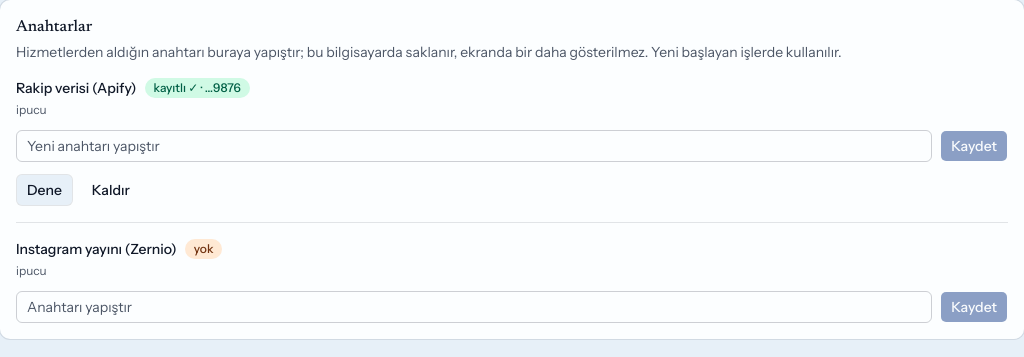
Test: ApiKeysCard › kaydedince değeri action'a yollar ve alanı boşaltır; kaldırma onay ister
This screenshot has width=1024, height=357.
In the password field named "Instagram yayını (Zernio) anahtarı": (474, 307) x1=16 y1=291 x2=932 y2=323, type "zk_0123456789"
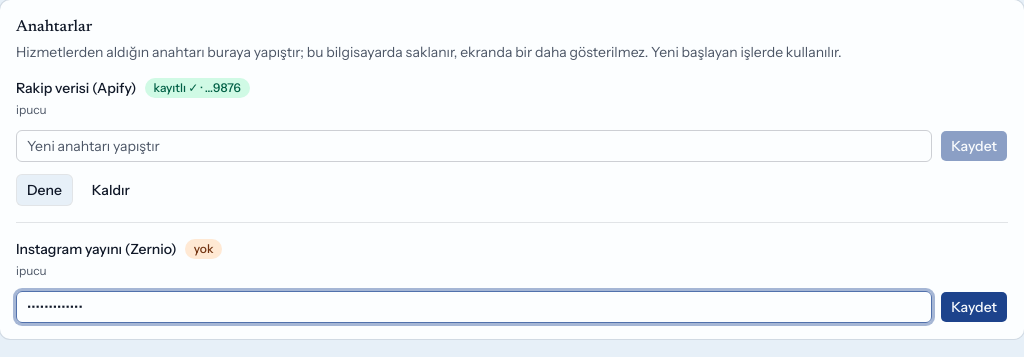
Click the 2nd button "Kaydet": (974, 307) x1=940 y1=291 x2=1008 y2=323
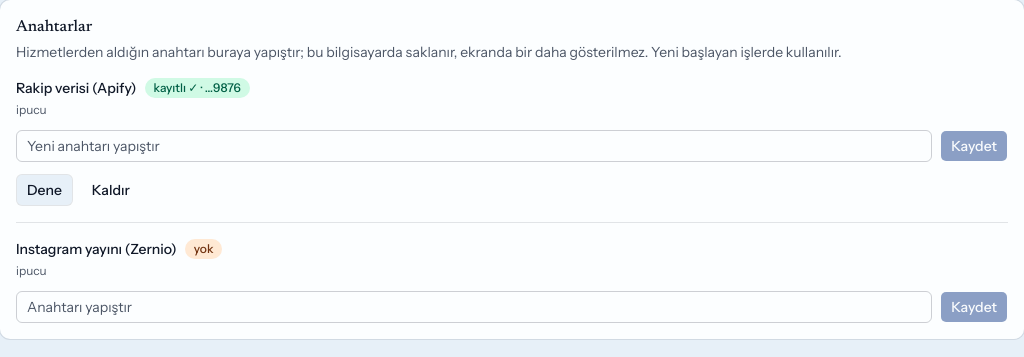
Result: the password field named "Instagram yayını (Zernio) anahtarı" is empty at x1=16 y1=291 x2=932 y2=323
Click the button "Kaldır": (111, 190) x1=81 y1=174 x2=141 y2=206
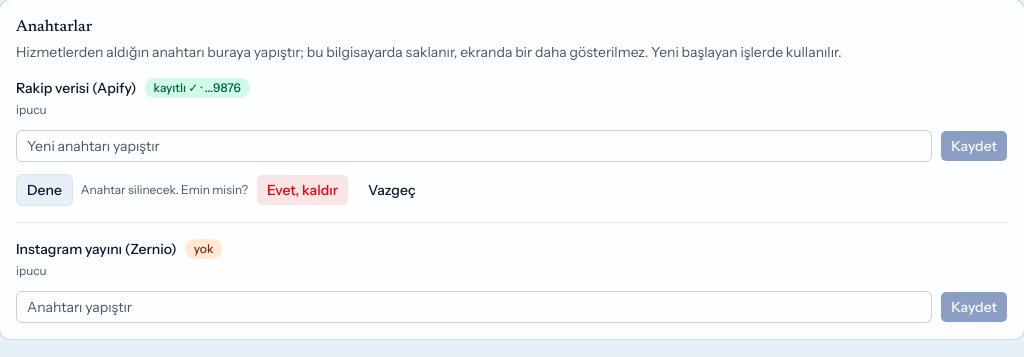
Result: the button "Evet, kaldır" is shown at x1=256 y1=174 x2=349 y2=206
